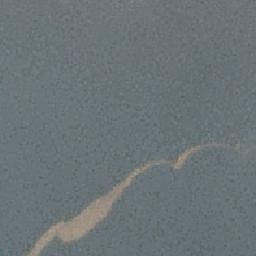debris: (180, 142, 248, 159), (131, 159, 185, 176), (28, 226, 58, 256), (91, 190, 117, 223), (59, 213, 89, 240), (119, 164, 128, 200)
